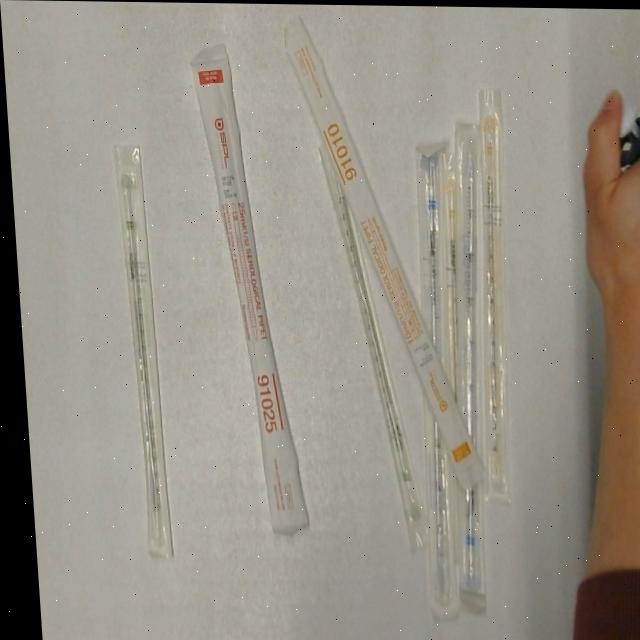Serelogical Pipet 1 mL - Sealed: (457, 84, 527, 503), (426, 146, 472, 401)
Serelogical Pipet 10 mL - Sealed: (281, 13, 480, 488)
Serelogical Pipet 2 mL - Sealed: (313, 138, 429, 554), (106, 138, 169, 568)
Serelogical Pipet 25 mL - Sealed: (187, 41, 304, 537)
Serelogical Pipet 5 mL - Sealed: (428, 119, 506, 602), (396, 136, 467, 614)
Single Channel Pipettor: (597, 89, 640, 176)
